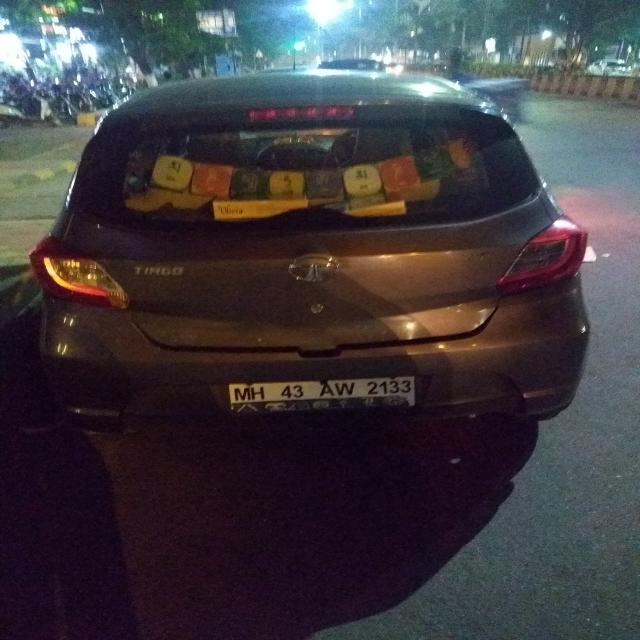Number-Plate: (224, 374, 423, 409)
